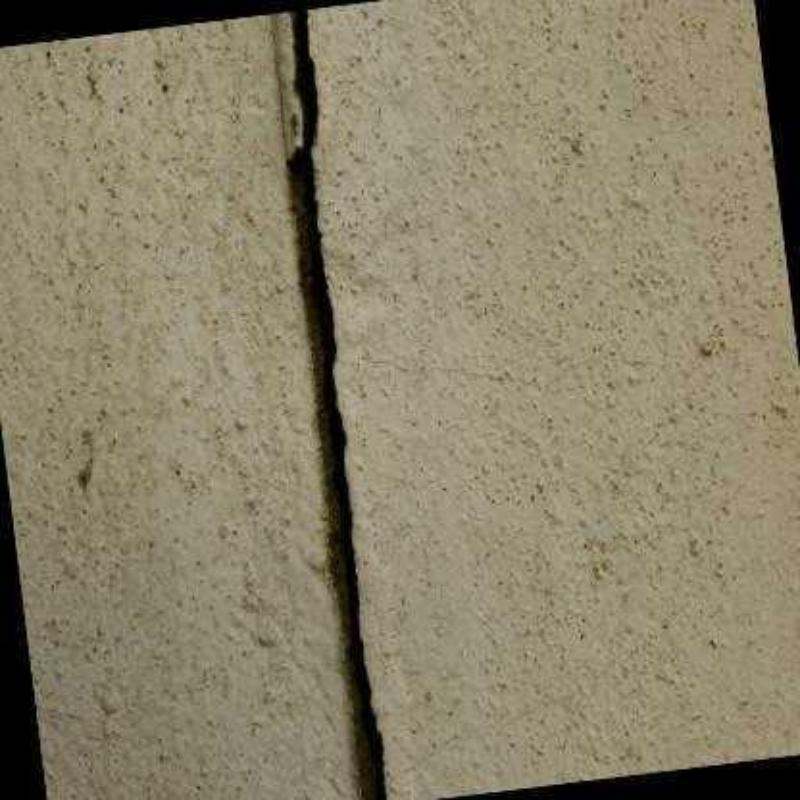crack: (285, 9, 385, 800)
